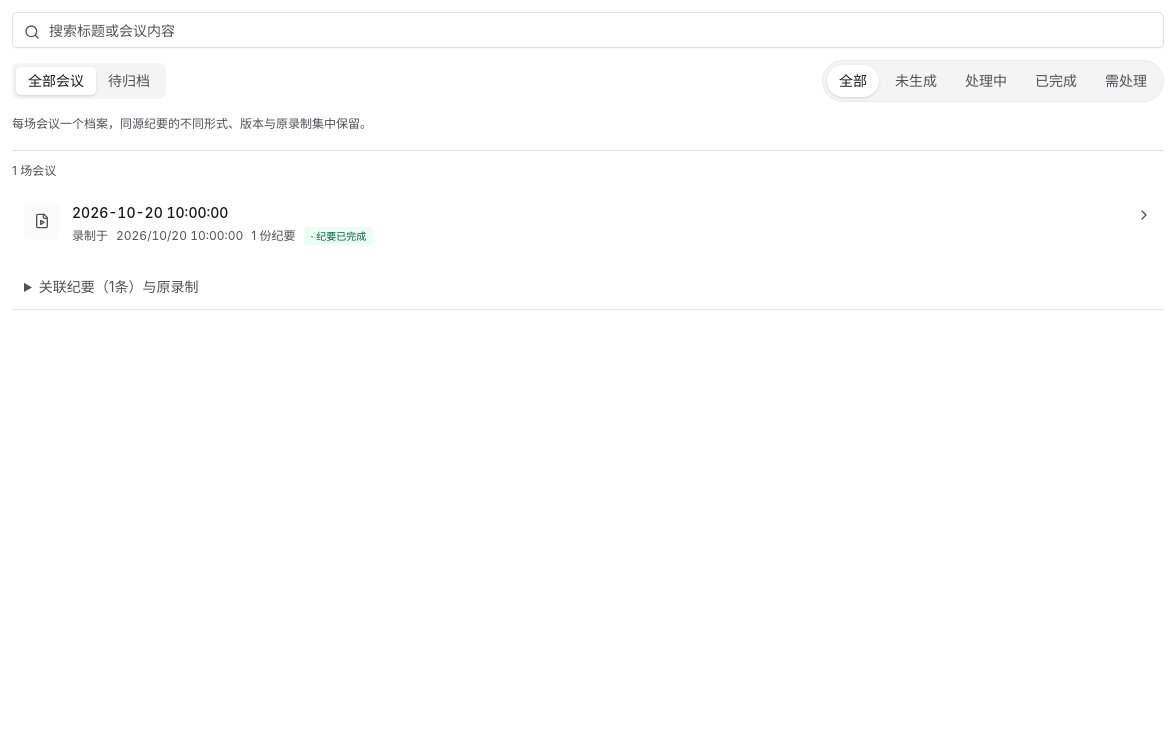
it: rejects malformed metadata {"protocol":2}
Click the heading "关联纪要（1条）与原录制". click: (119, 286)
box: [39,278,198,295]
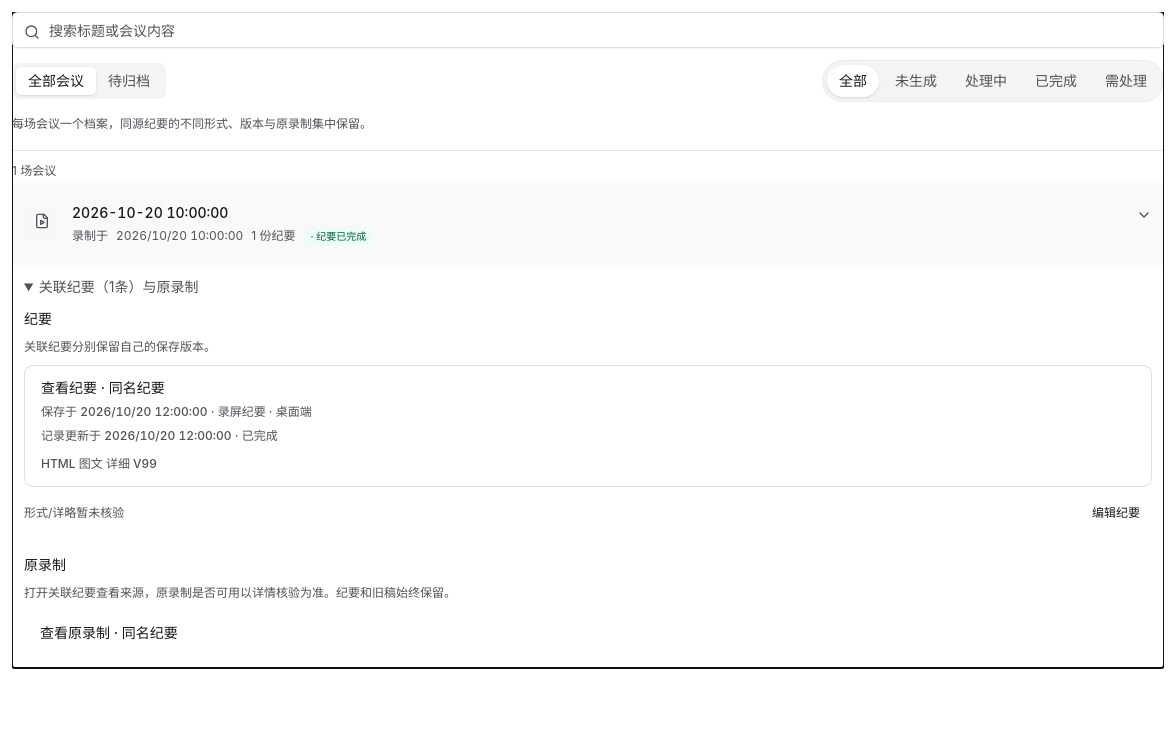
Expected: the text "形式/详略暂未核验" is shown, [24,505,124,521]
